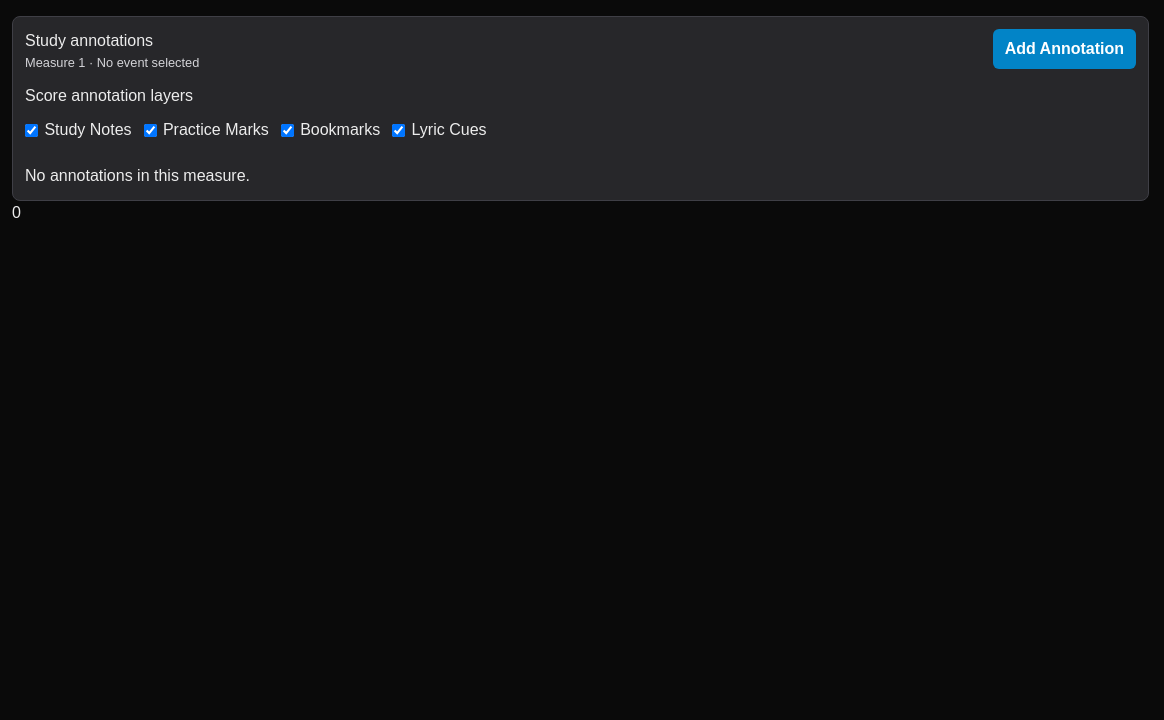
Test: StaffBuilderAnnotationsPanel › offers only the current measure when no event is selected
Check: the text "Measure 1 · No event selected" is shown, box 25,53 -> 199,72
Click the button "Add Annotation".
click(1064, 49)  # box 993,29 -> 1136,69
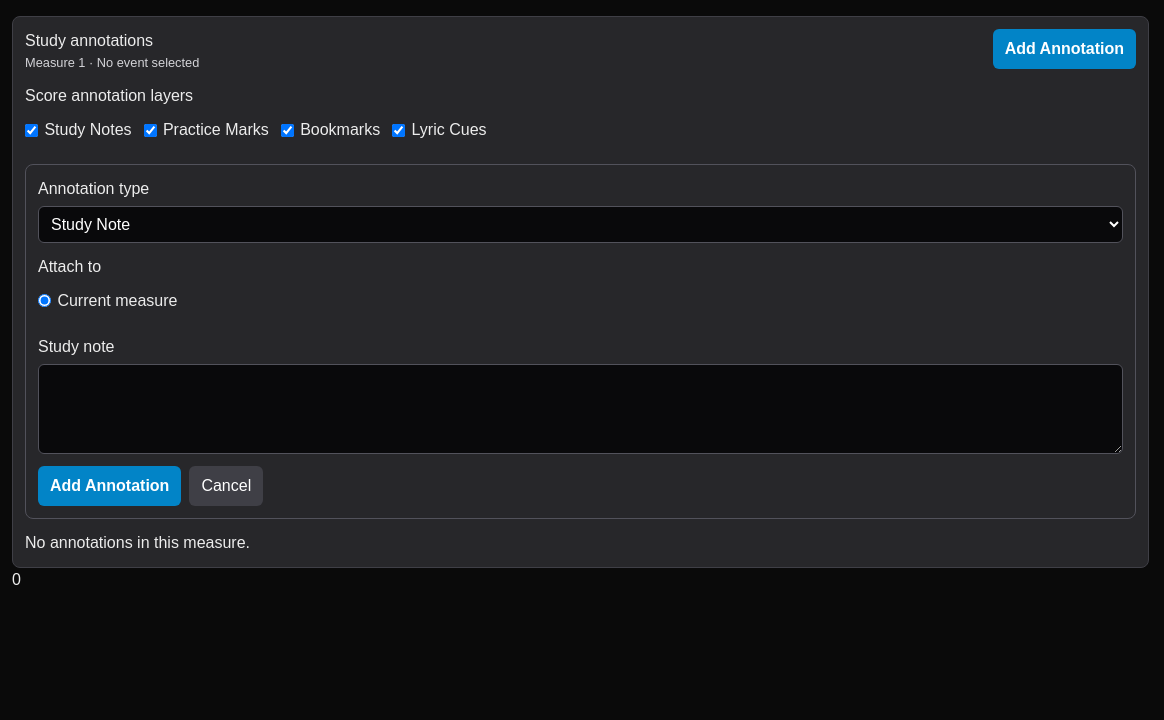
Check: the radio button labelled "Current measure" is checked, box 38,294 -> 51,308
